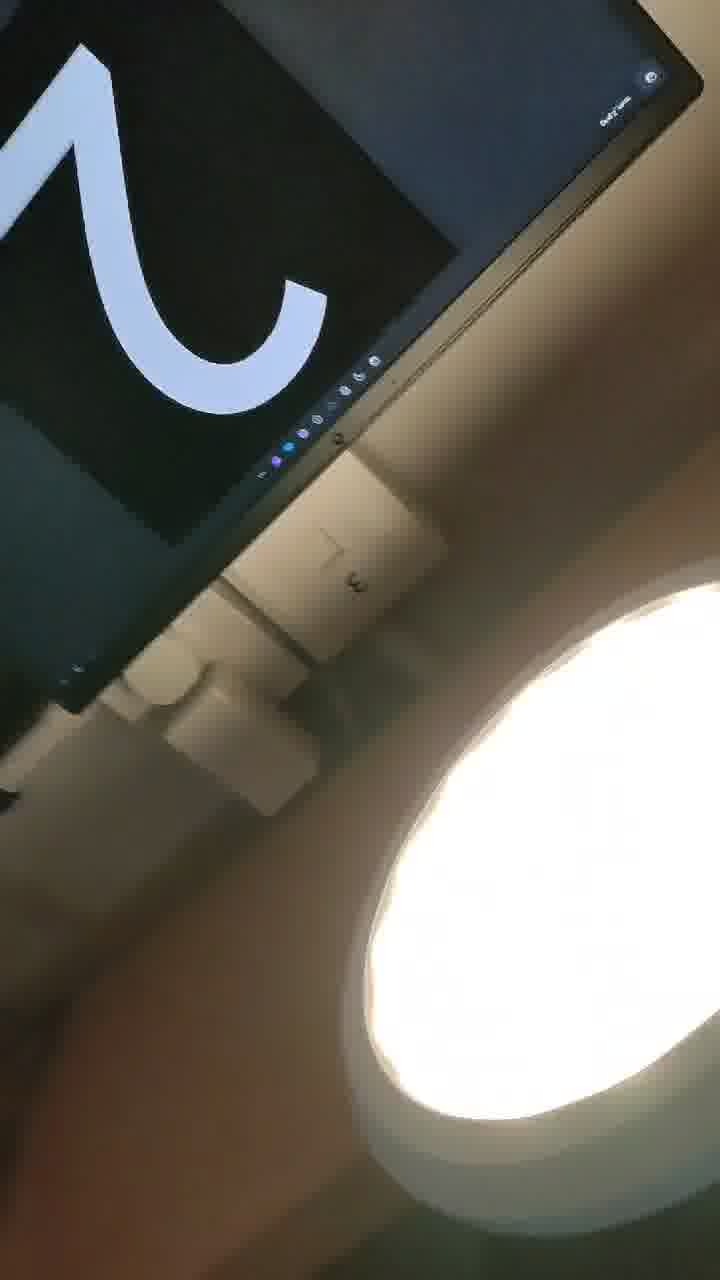two: (2, 34, 333, 434)
